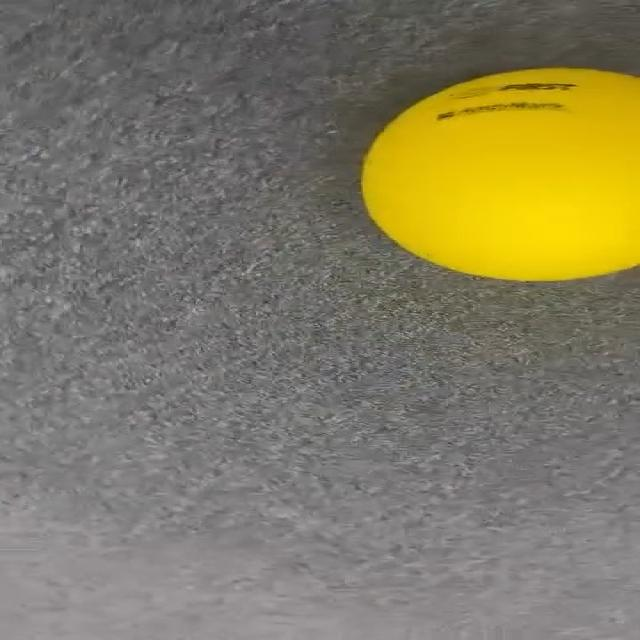Fuels: (363, 68, 638, 280)
